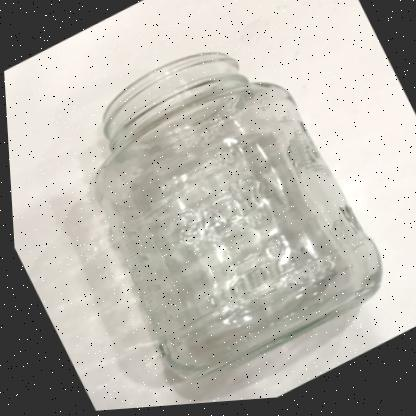Glass: (92, 56, 377, 383)
